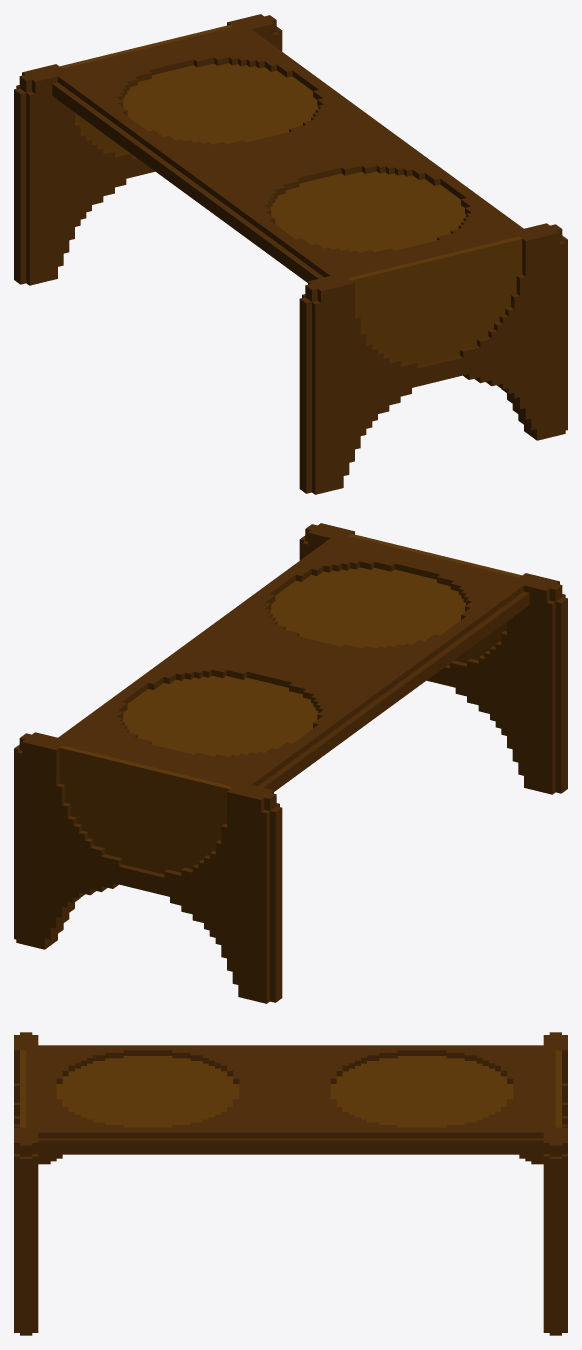
The model's file is marche_1.obj.
3 renders of one model, top to bottom at view 1: azimuth 30°, elevation 25°; view 2: azimuth 150°, elevation 25°; view 3: azimuth 270°, elevation 25°, orthographic. The views are drawn at different scales.
Bounding box in the file's own units: 46 × 34 × 91.
Materials: 1 (1 with a texture image).
